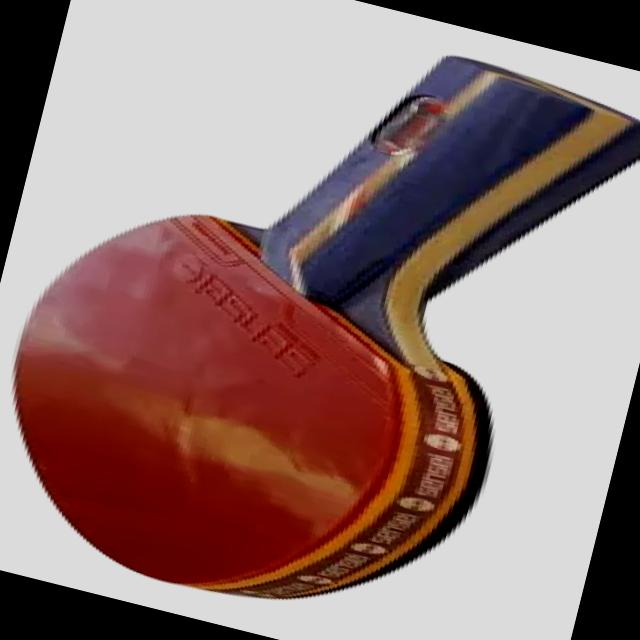TT Racket: (0, 113, 636, 640)
